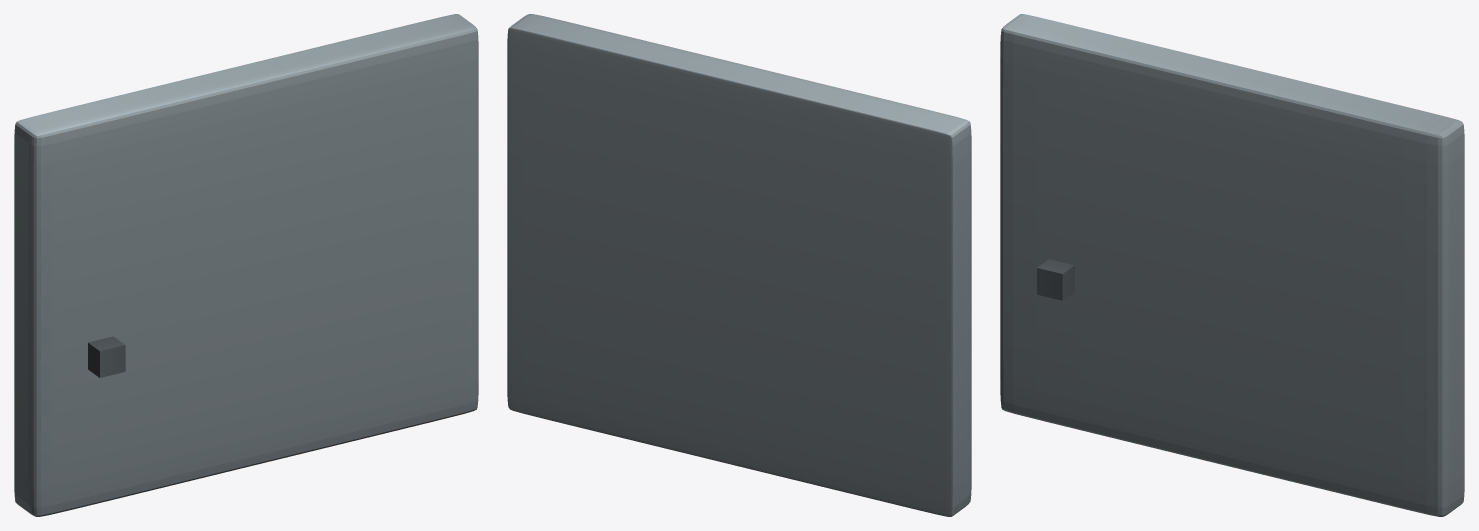
File: fridge_door.gltf
The picture shows the model from 3 angles, left to right: view 1: azimuth 30°, elevation 25°; view 2: azimuth 150°, elevation 25°; view 3: azimuth 330°, elevation 25°; orthographic projection.
Visible parts, largest first — view 1: Cube, Cube.001; view 2: Cube; view 3: Cube, Cube.001.
Part boxes in pixels (x1,y1,x2,y2): Cube: (14,14,478,516); Cube.001: (88,336,125,377); Cube: (507,14,971,516); Cube: (1000,14,1464,516); Cube.001: (1037,259,1074,300).
Bounding box in the file's own units: 5.9 × 4.85 × 0.7787.
1 material, 1 textured.
